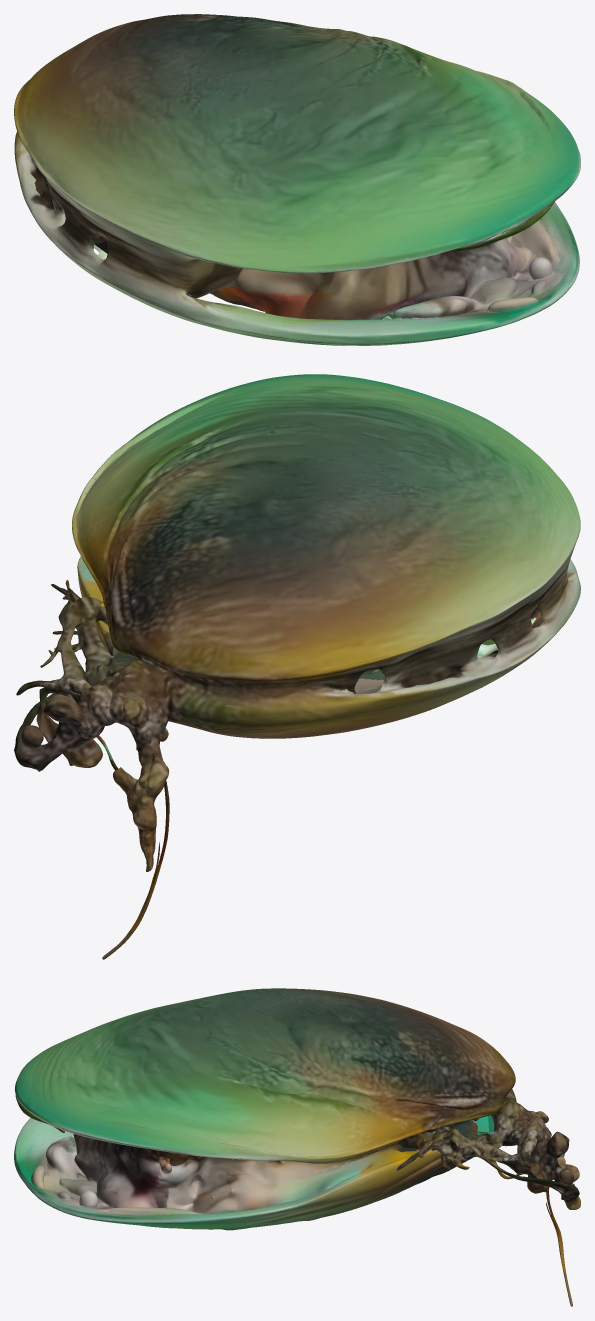
Rendered from Hydroides Elegans.glb.
3 renders of one model, top to bottom at view 1: azimuth 30°, elevation 25°; view 2: azimuth 150°, elevation 25°; view 3: azimuth 270°, elevation 25°, orthographic. The views are drawn at different scales.
Parts seen in each view (by area): view 1: tripo_node_da9e76dc-3d45-42e8-9b6f-0f803dba6ca5; view 2: tripo_node_da9e76dc-3d45-42e8-9b6f-0f803dba6ca5; view 3: tripo_node_da9e76dc-3d45-42e8-9b6f-0f803dba6ca5.
Part boxes in pixels (box(x1,y1,x2,y2)): tripo_node_da9e76dc-3d45-42e8-9b6f-0f803dba6ca5: box(14, 14, 580, 345); tripo_node_da9e76dc-3d45-42e8-9b6f-0f803dba6ca5: box(14, 374, 580, 959); tripo_node_da9e76dc-3d45-42e8-9b6f-0f803dba6ca5: box(14, 988, 580, 1306).
Bounding box in the file's own units: 0.7046 × 0.5535 × 1.
Materials: 1 (1 with a texture image).
